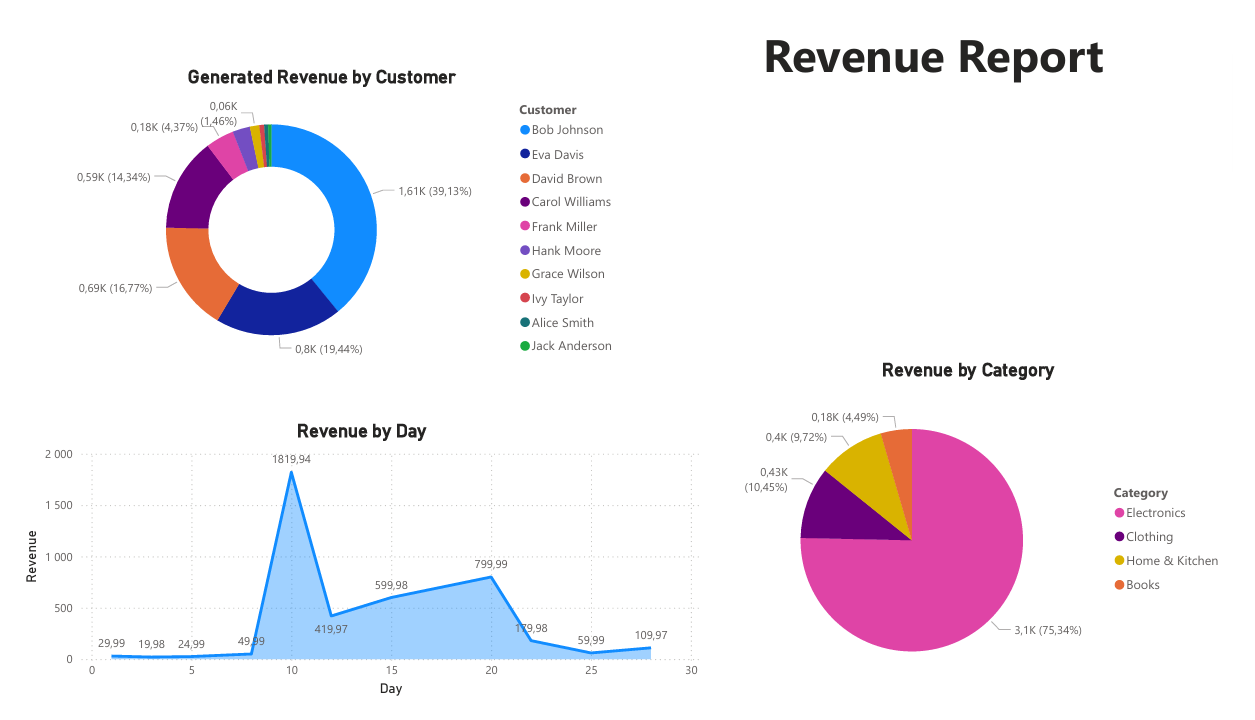

Layout of this report page (visuals, bound fields, positions):
{"tool":"powerbi","page":{"name":"Page 3","canvas":[1280,720],"ordinal":2},"visuals":[{"type":"areaChart","fields":{"Category":["ORDERS.OrderDate.Variation.Date Hierarchy.Day"],"Y":["ORDERS.TotalAmount"]},"box":[0,424.3,724.3,295.7],"z":0},{"type":"donutChart","fields":{"Category":["CUSTOMERS.FullName"],"Y":["ORDERS.TotalAmount"]},"box":[0,51.4,640,322.9],"z":1},{"type":"pieChart","fields":{"Category":["CATEGORIES.Name"],"Y":["ORDERS.TotalRevenue"]},"box":[724.3,360,555.7,360],"z":2},{"type":"textbox","box":[650,0,630,94.3],"z":3}]}

Visuals, with their boxes in screenshot pixels (x1, y1, x2, y2), scaled from the page's 1280x720 canvas onto the 1255x720 screenshot:
areaChart - ORDERS.OrderDate.Variation.Date Hierarchy.Day x ORDERS.TotalAmount: {"x1": 0, "y1": 424, "x2": 710, "y2": 719}
donutChart - CUSTOMERS.FullName x ORDERS.TotalAmount: {"x1": 0, "y1": 51, "x2": 628, "y2": 374}
pieChart - CATEGORIES.Name x ORDERS.TotalRevenue: {"x1": 710, "y1": 360, "x2": 1254, "y2": 719}
textbox: {"x1": 637, "y1": 0, "x2": 1254, "y2": 94}
